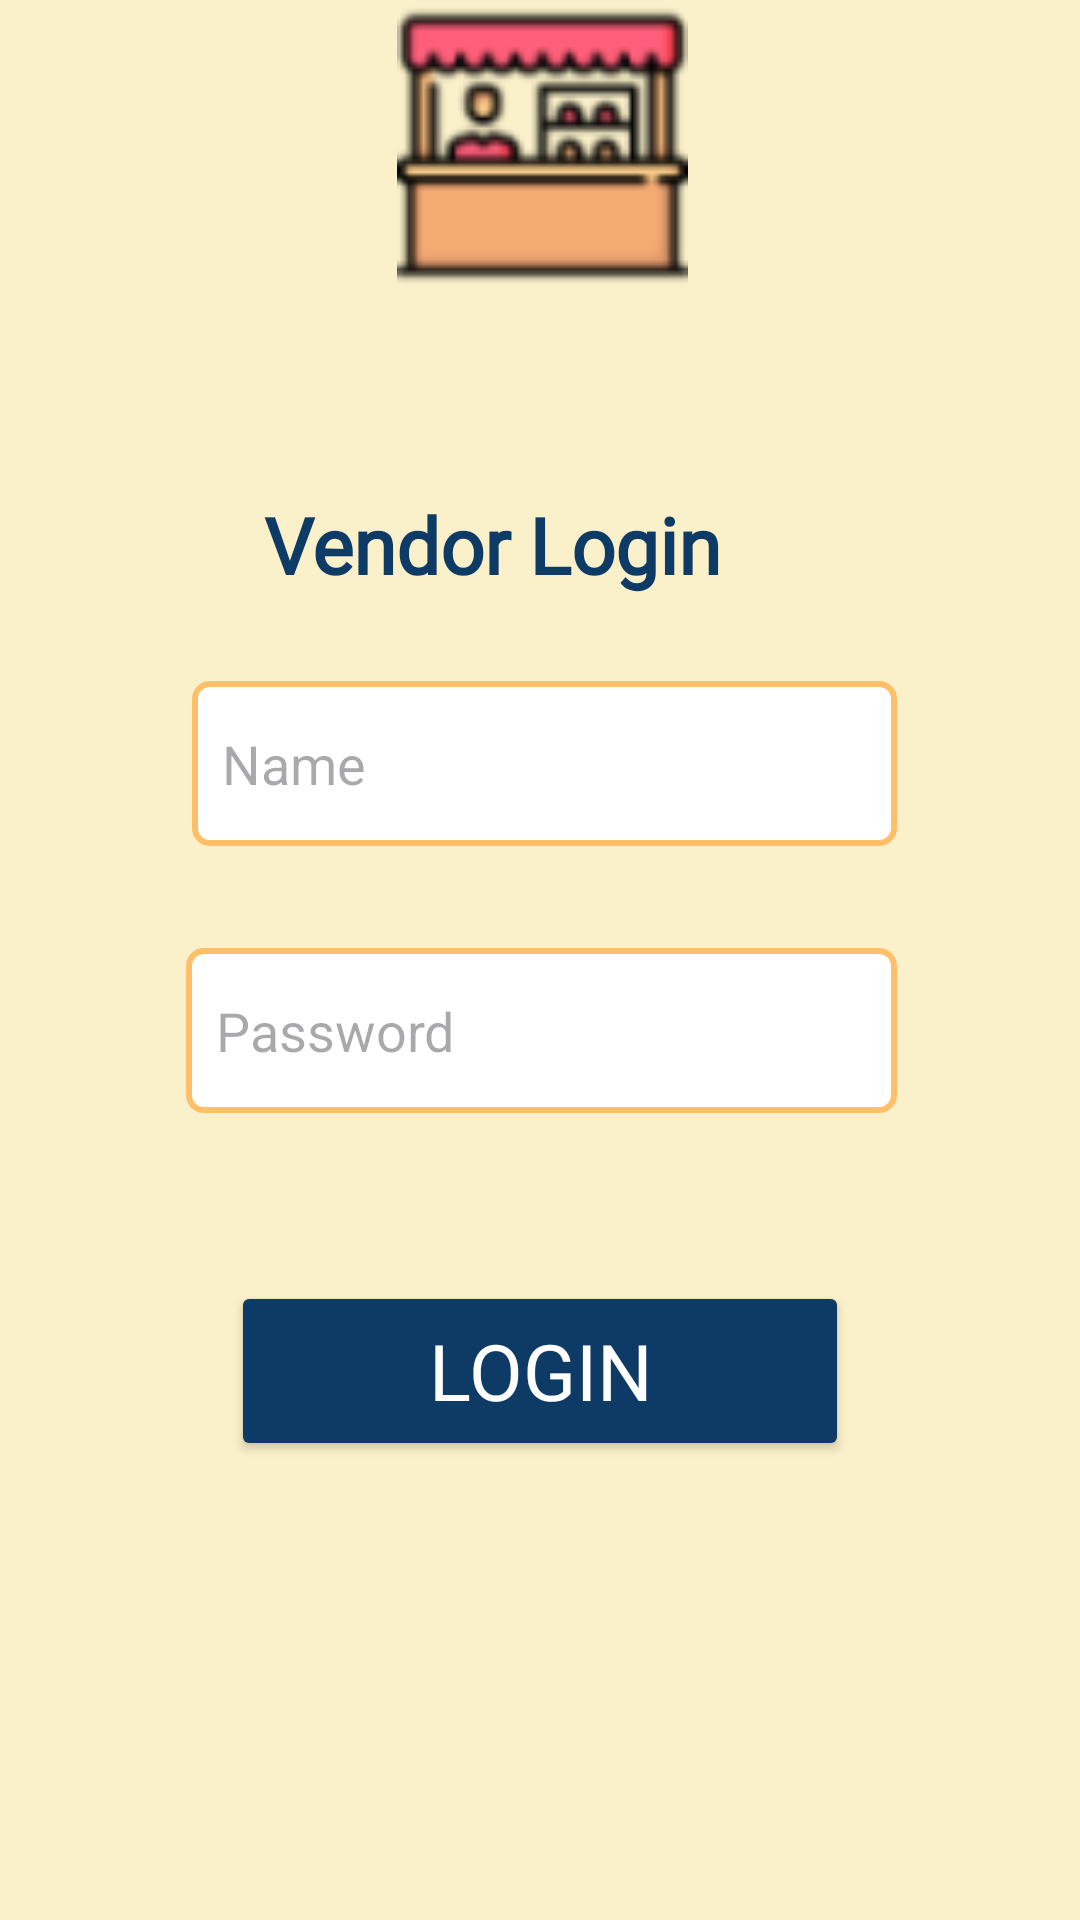

Icon click points for this 1080x1920 phone screenshot, format (x,y):
vendor: (542,145)
